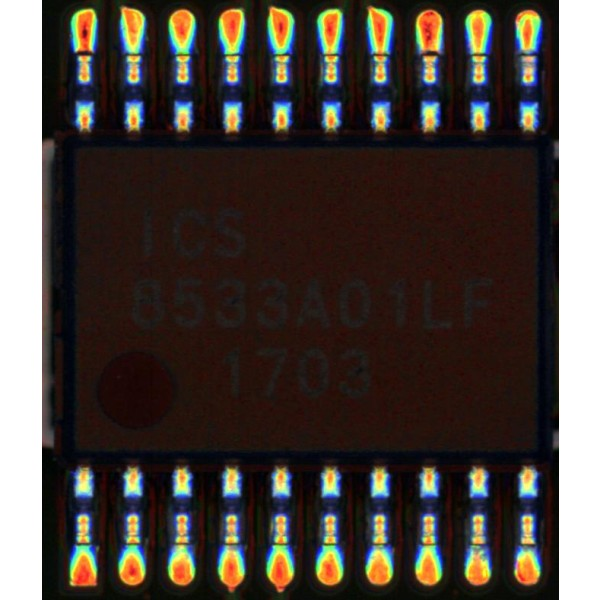Bad_podu: (422, 44, 437, 65), (374, 42, 387, 66), (77, 44, 91, 62)
